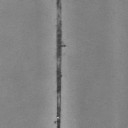slag inclusion: (55, 0, 66, 128)
